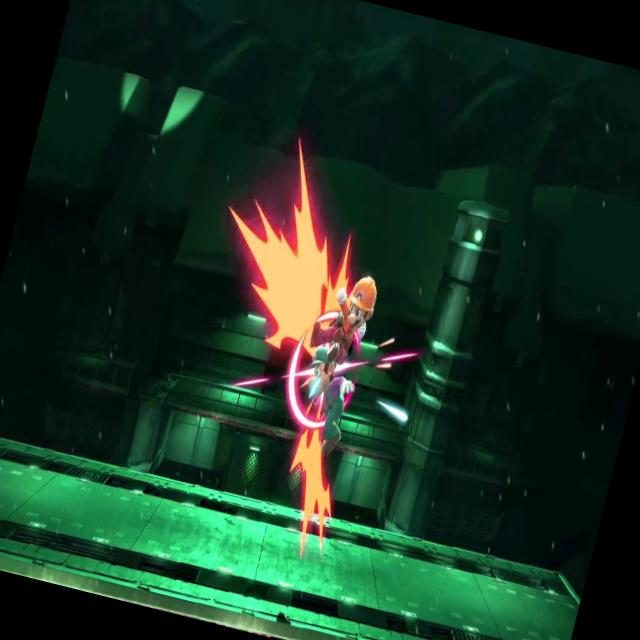Mario: (283, 338, 367, 462)
Mario-NA: (304, 258, 384, 374)
